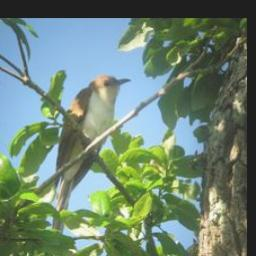Cuckoo: (48, 72, 135, 240)
